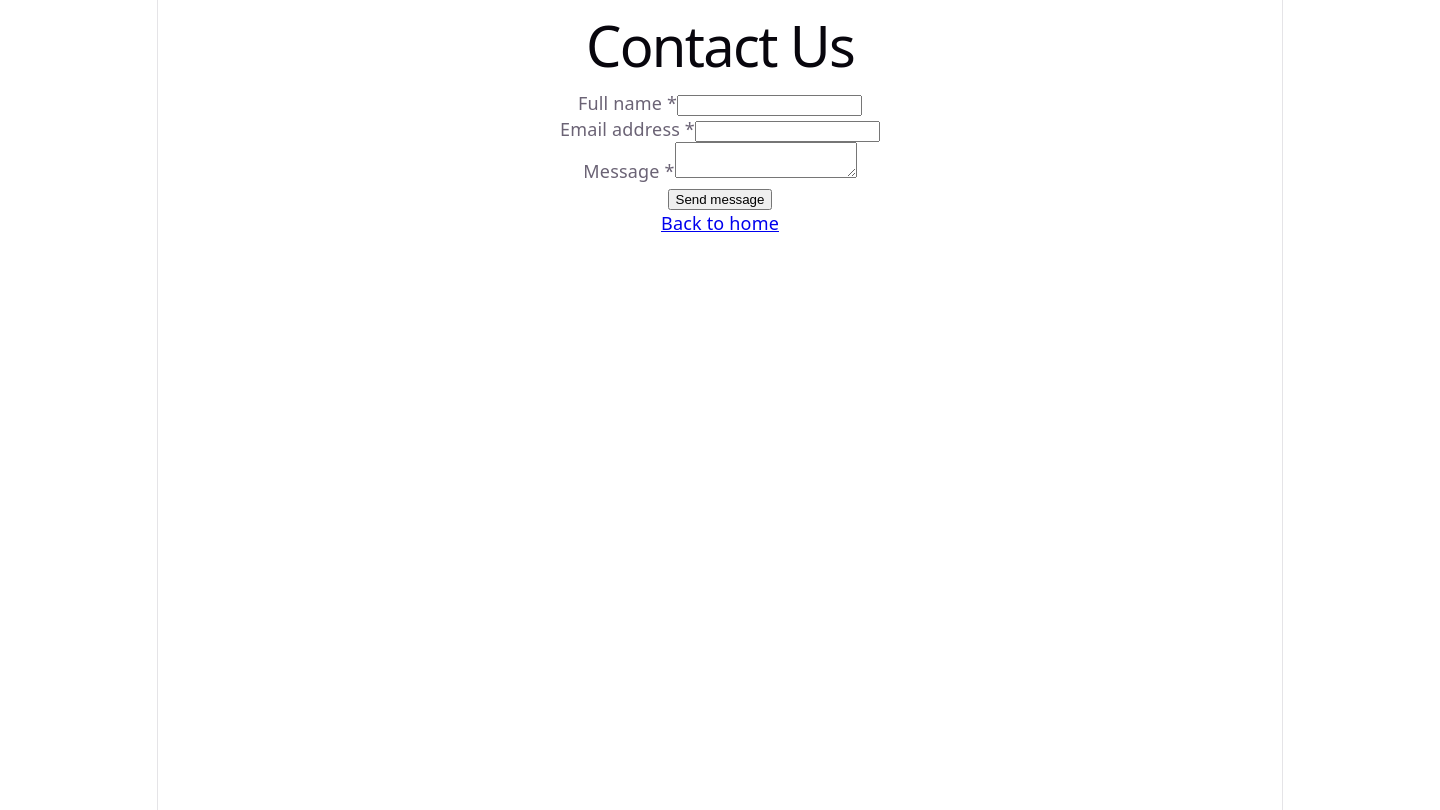
Test: AC4: generic error response shows banner and preserves form values › edge case — form (Submit button) is still present after error
Type "Bob" into the field labelled "Full name *". click: coordinates (770, 106)
box: [677,95,862,116]
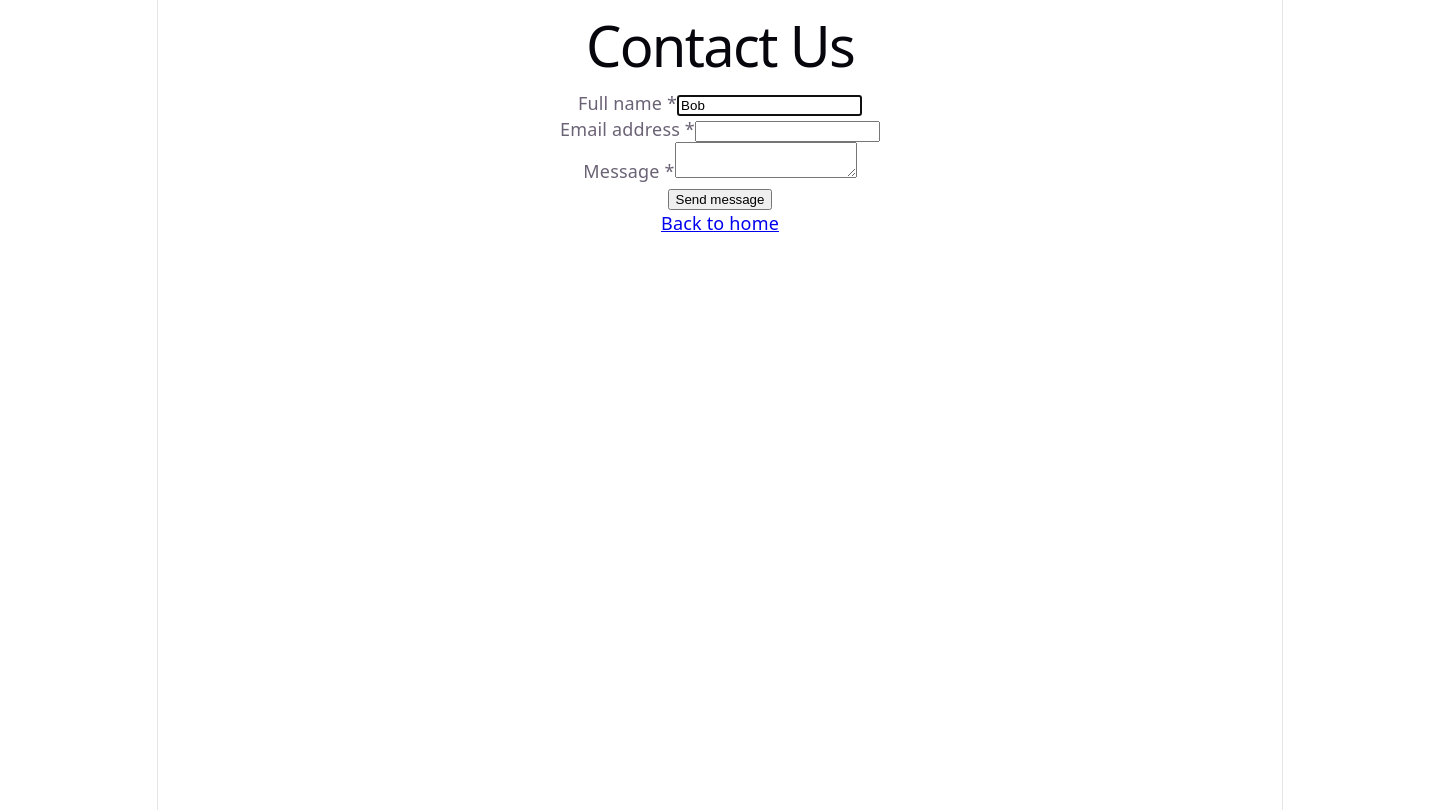
Type "bob@example.com" into the field labelled "Email address *". click: coordinates (788, 132)
box: [695,121,880,142]
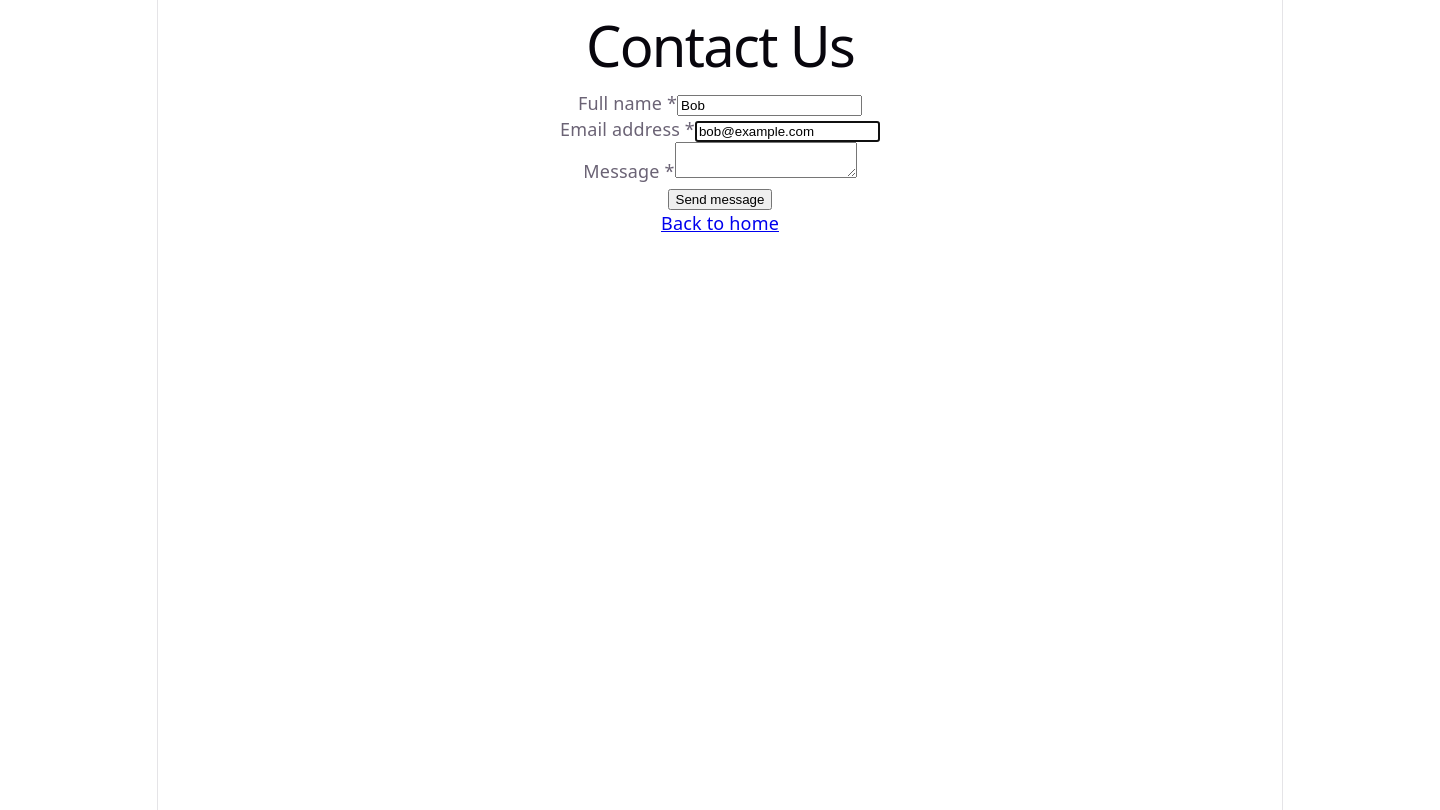
Type "Hi" into the text box labelled "Message *". click: coordinates (766, 160)
box: [675,142,857,178]
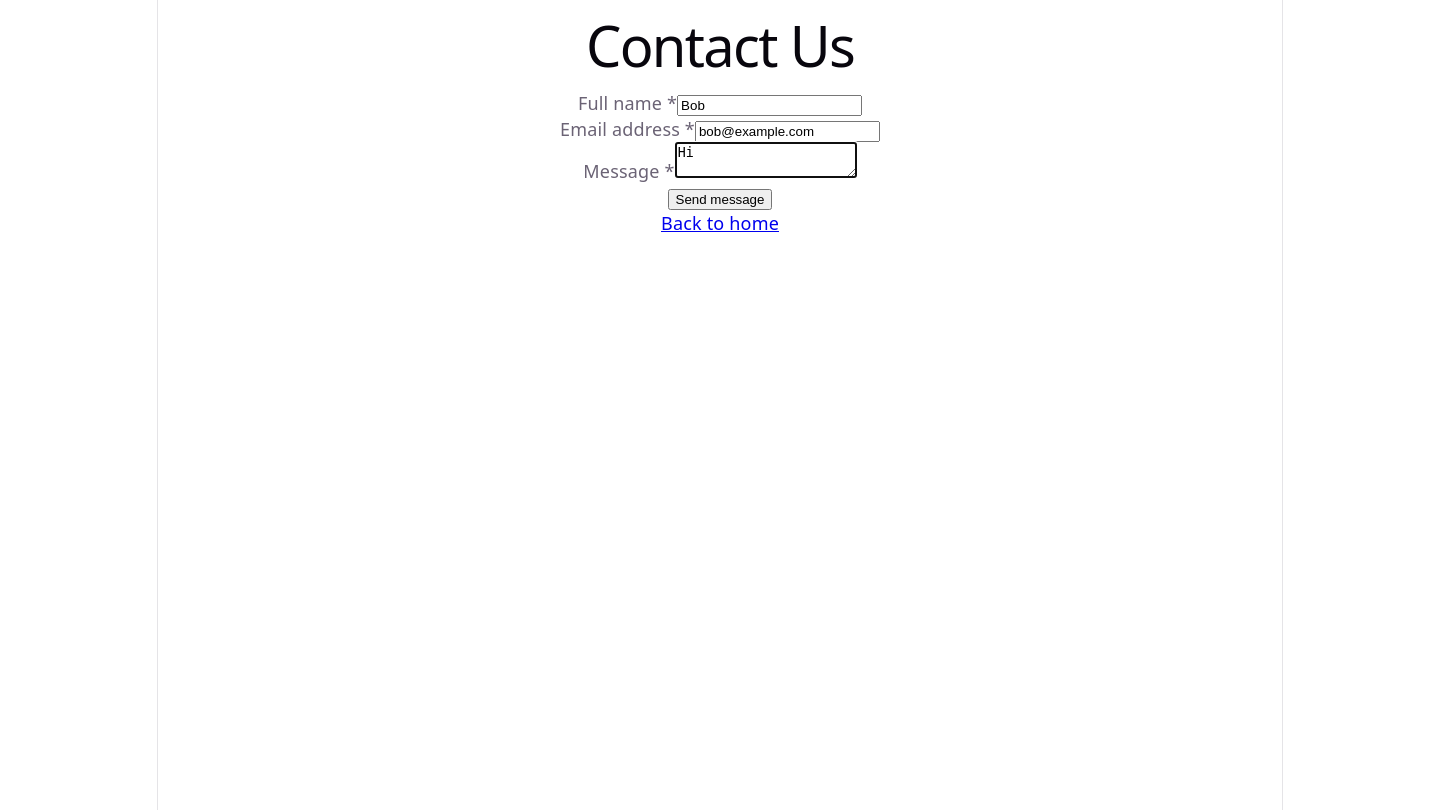
Click the button "Send message". click: coordinates (720, 200)
box: [668,189,772,210]
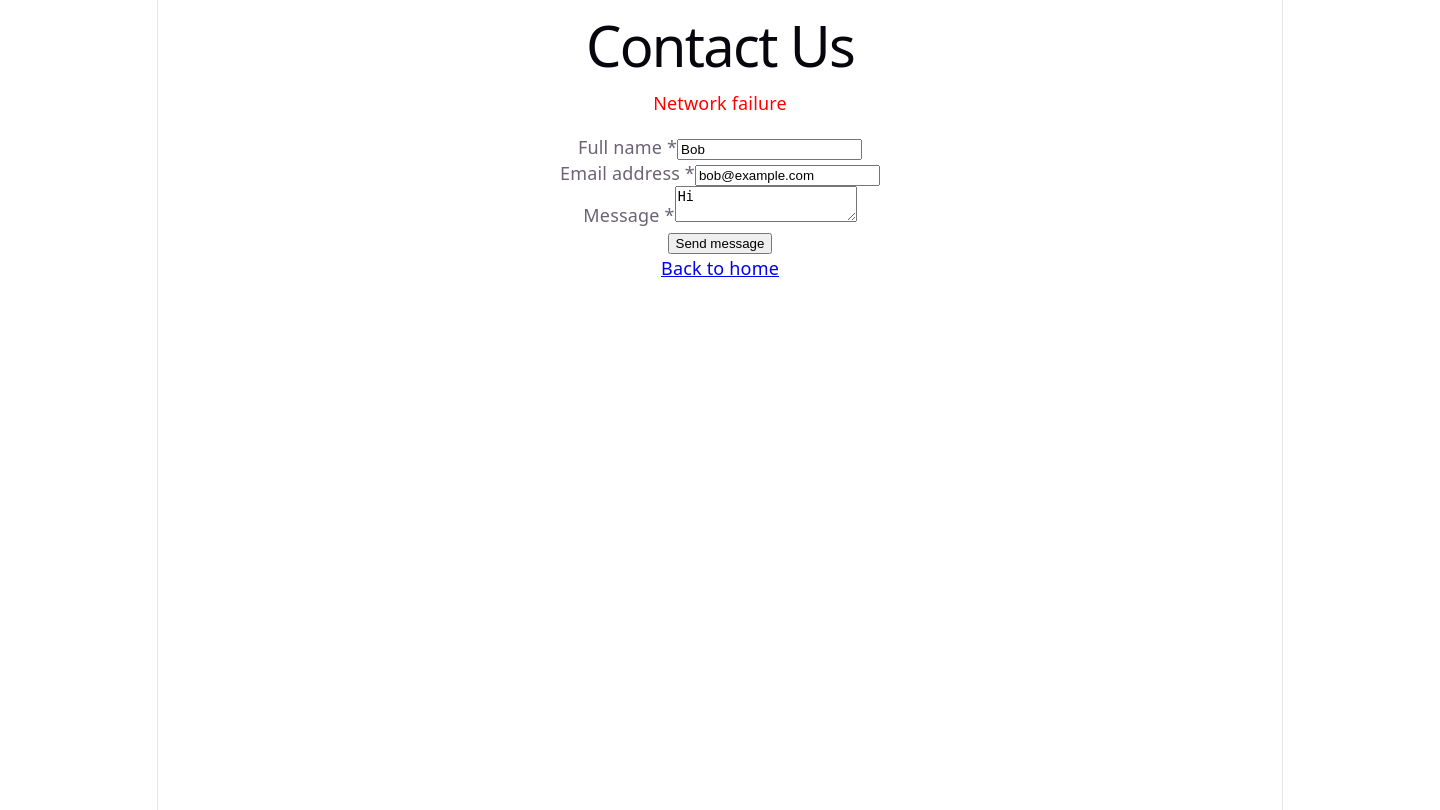
Expected: the button "Send message" is shown, [668,234,772,254]
Expected: the message "Network failure" is shown, [653,91,787,115]
